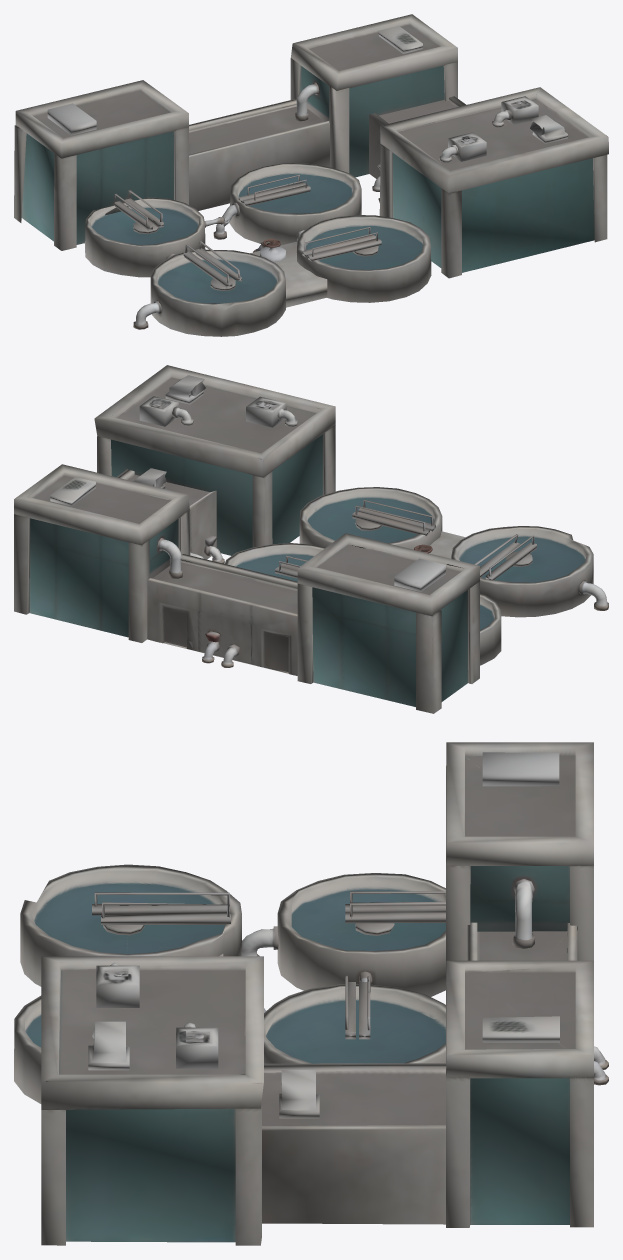
The model's file is 26-water-treatment-plant.glb.
3 views of the same model, one above another, from view 1: azimuth 30°, elevation 25°; view 2: azimuth 150°, elevation 25°; view 3: azimuth 270°, elevation 25° (orthographic). The views are drawn at different scales.
Parts seen in each view (by area): view 1: geometry_0; view 2: geometry_0; view 3: geometry_0.
Boxes of the visible parts, x1,y1,x2,y2 form: geometry_0: [14, 14, 608, 336]; geometry_0: [14, 365, 608, 713]; geometry_0: [14, 742, 608, 1245].
Size of the model in its own units: 0.9531 by 0.2344 by 0.6802.
Materials: 1 (1 with a texture image).
